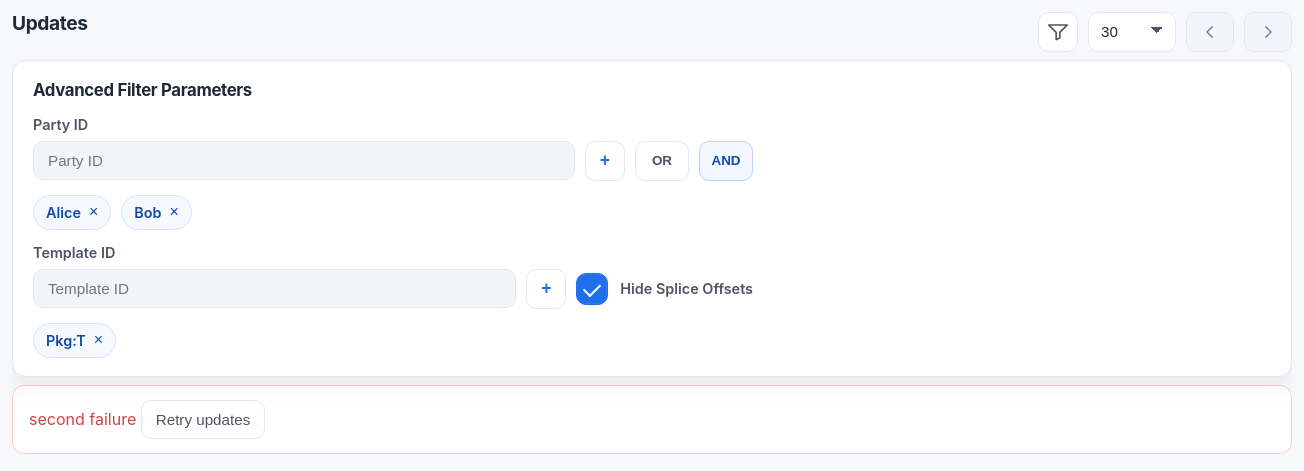
Scenario: UpdatesBrowser › retries a failed request once, keeps its error local, and retries with the current query
Expected: the message shows "second failure", top-left (29, 409), bottom-right (141, 429)
Click the button "Retry updates".
click(203, 419)  # box top-left (141, 400), bottom-right (265, 439)
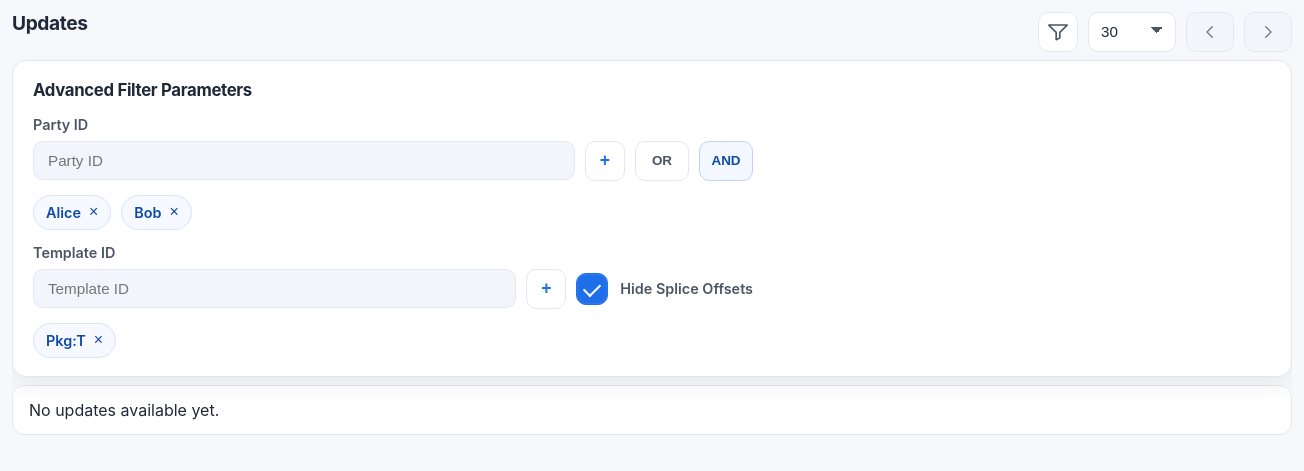
Expected: the text "No updates available yet." is shown, top-left (12, 385), bottom-right (1292, 435)
